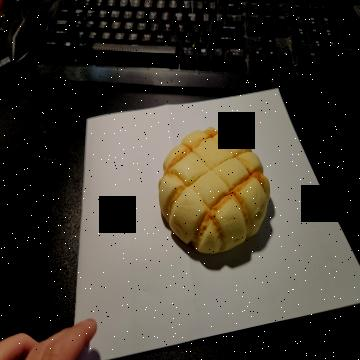melon_bread: (157, 127, 272, 256)
